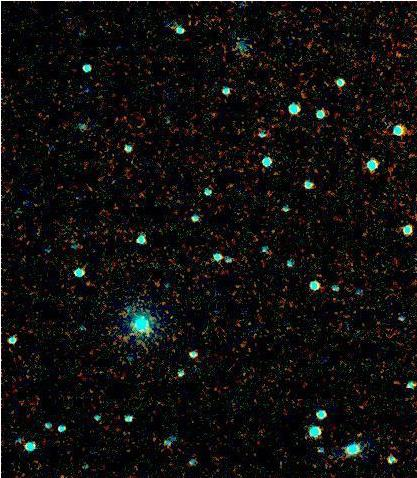star: (346, 421, 376, 451)
